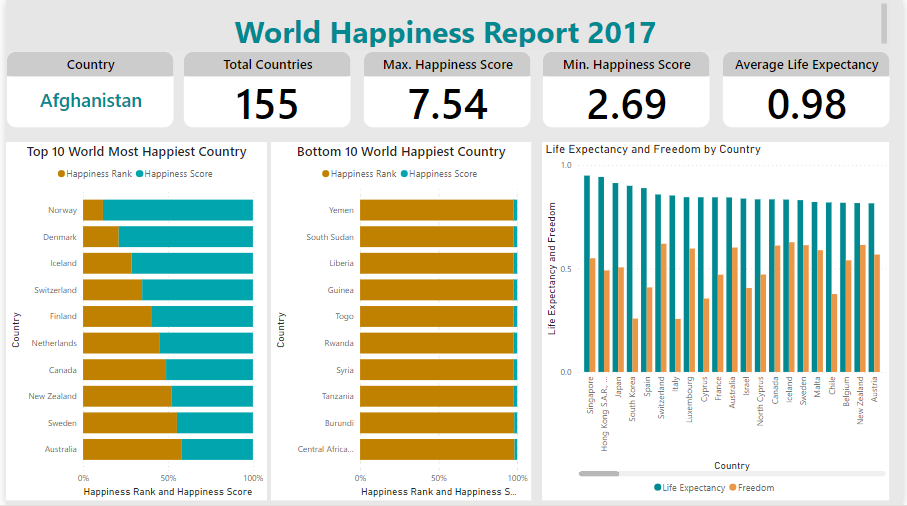

The page's visual inventory and layout, read from the dashboard file:
{"tool":"powerbi","page":{"name":"Page 1","canvas":[1280,720],"ordinal":0},"visuals":[{"type":"textbox","box":[0,0,1260.9,72.5],"z":0},{"type":"hundredPercentStackedBarChart","title":"Top 10 World Most Happiest Country","fields":{"Category":["CountryRanks.Country"],"Y":["Sum(CountryRanks.Happiness.Rank)","Sum(HappinessData-2017.Happiness.Score)"]},"box":[0,202.6,372.4,510.9],"z":0,"group":"g1"},{"type":"hundredPercentStackedBarChart","title":"Bottom 10 World Happiest Country","fields":{"Category":["CountryRanks.Country"],"Y":["Sum(CountryRanks.Happiness.Rank)","Sum(HappinessData-2017.Happiness.Score)"]},"box":[378.1,202.6,371,510.9],"z":1000,"group":"g1"},{"type":"lineClusteredColumnComboChart","fields":{"Category":["HappinessData-2017.Country"],"Y":["Sum(HappinessData-2017.Health..Life.Expectancy.)","Sum(HappinessData-2017.Freedom)"]},"box":[764.9,202.6,495.2,510.9],"z":1000},{"type":"card","title":"Total Countries","fields":{"Values":["CountNonNull(HappinessData-2017.Country)"]},"box":[252.6,72.8,239.7,109.9],"z":2000,"group":"g2"},{"type":"group","id":"g1","title":"Group 1","box":[0,202.6,749.2,510.9],"z":2000},{"type":"group","id":"g2","title":"Group 2","box":[0,72.8,1260,109.9],"z":3000},{"type":"card","title":"Max. Happiness Score","fields":{"Values":["Max(HappinessData-2017.Happiness.Score)"]},"box":[509.4,72.8,239.7,109.9],"z":3000,"group":"g2"},{"type":"card","title":"Min. Happiness Score","fields":{"Values":["Min(HappinessData-2017.Happiness.Score)"]},"box":[764.9,72.8,239.7,109.9],"z":4000,"group":"g2"},{"type":"card","title":"Country","fields":{"Values":["Min(CountryRanks.Country)"]},"box":[0,72.8,239.7,109.9],"z":5000,"group":"g2"},{"type":"card","title":"Average Life Expectancy","fields":{"Values":["HappinessData-2017.Average GDP.per.Capita"]},"box":[1020.3,72.8,239.7,109.9],"z":7000,"group":"g2"}]}

Visuals, with their boxes in screenshot pixels (x1, y1, x2, y2), scaled from the page's 1280x720 canvas onto the 907x506 screenshot:
textbox: {"x1": 0, "y1": 0, "x2": 893, "y2": 51}
"Top 10 World Most Happiest Country" hundredPercentStackedBarChart: {"x1": 0, "y1": 142, "x2": 264, "y2": 501}
"Bottom 10 World Happiest Country" hundredPercentStackedBarChart: {"x1": 268, "y1": 142, "x2": 531, "y2": 501}
lineClusteredColumnComboChart - HappinessData-2017.Country x Sum(HappinessData-2017.Health..Life.Expectancy.): {"x1": 542, "y1": 142, "x2": 893, "y2": 501}
"Total Countries" card: {"x1": 179, "y1": 51, "x2": 349, "y2": 128}
"Group 1" group: {"x1": 0, "y1": 142, "x2": 531, "y2": 501}
"Group 2" group: {"x1": 0, "y1": 51, "x2": 893, "y2": 128}
"Max. Happiness Score" card: {"x1": 361, "y1": 51, "x2": 531, "y2": 128}
"Min. Happiness Score" card: {"x1": 542, "y1": 51, "x2": 712, "y2": 128}
"Country" card: {"x1": 0, "y1": 51, "x2": 170, "y2": 128}
"Average Life Expectancy" card: {"x1": 723, "y1": 51, "x2": 893, "y2": 128}
